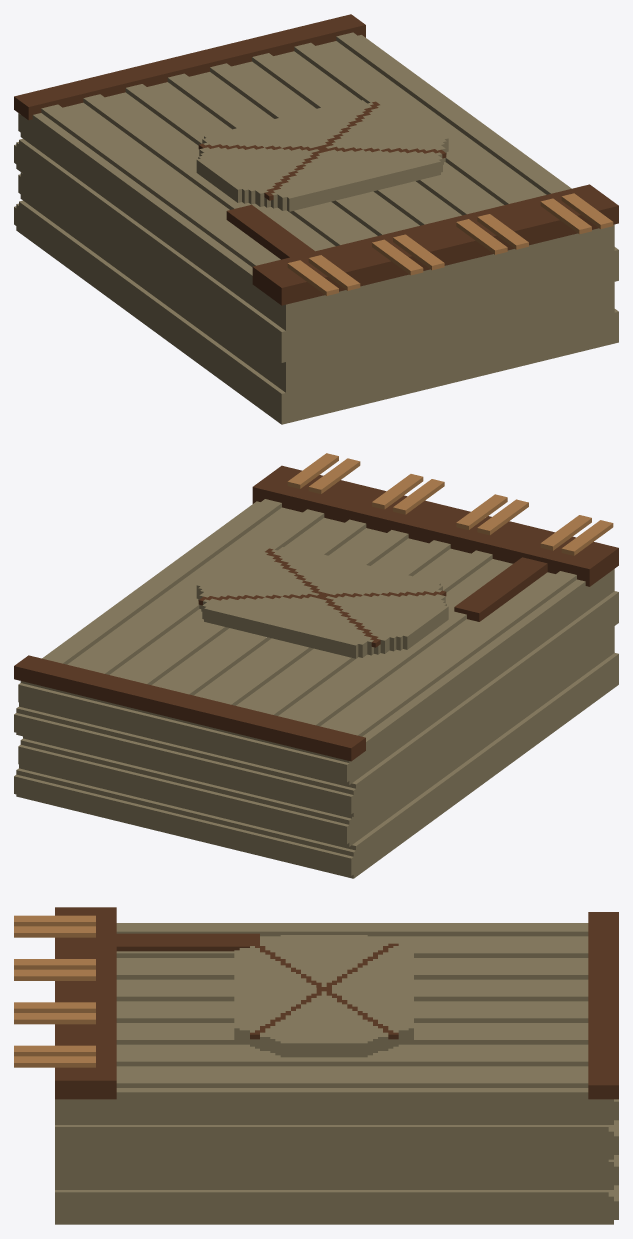
The model's file is gambeson_pants_canvas.glb.
The picture shows the model from 3 angles, top to bottom: view 1: azimuth 30°, elevation 25°; view 2: azimuth 150°, elevation 25°; view 3: azimuth 270°, elevation 25°; orthographic projection. The views are drawn at different scales.
Parts seen in each view (by area): view 1: gambeson_pants_canvas:compound; view 2: gambeson_pants_canvas:compound; view 3: gambeson_pants_canvas:compound.
Part boxes in pixels (x1,y1,x2,y2): gambeson_pants_canvas:compound: (14,14,618,424); gambeson_pants_canvas:compound: (14,453,618,878); gambeson_pants_canvas:compound: (14,907,618,1224).
Size of the model in its own units: 0.32 by 0.128 by 0.472.
